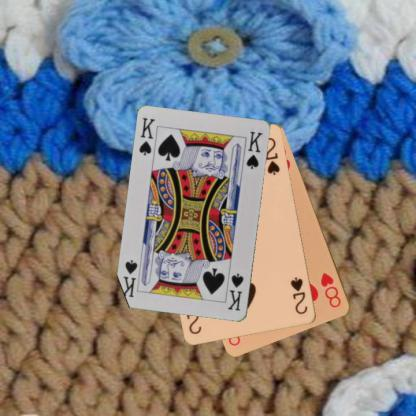2s: (288, 274, 309, 316)
8h: (318, 270, 342, 309)
Ks: (136, 115, 157, 157), (225, 271, 245, 313)
